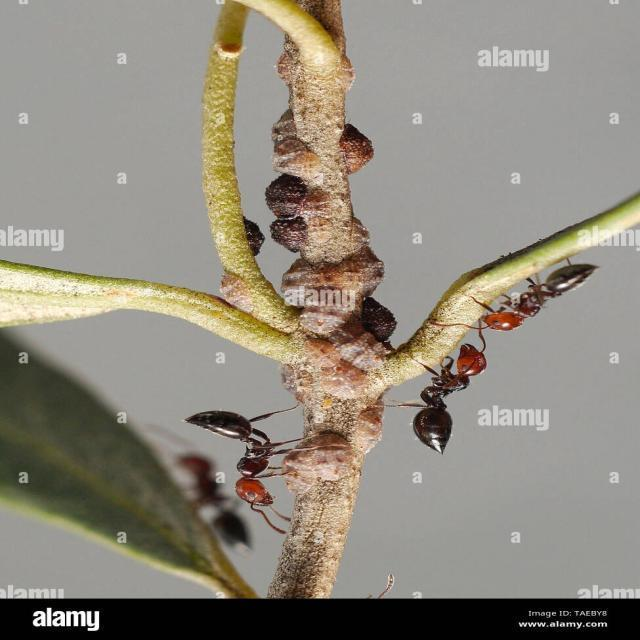BlackScale: (282, 248, 400, 398), (264, 110, 326, 252), (340, 124, 374, 174), (243, 216, 260, 256)
